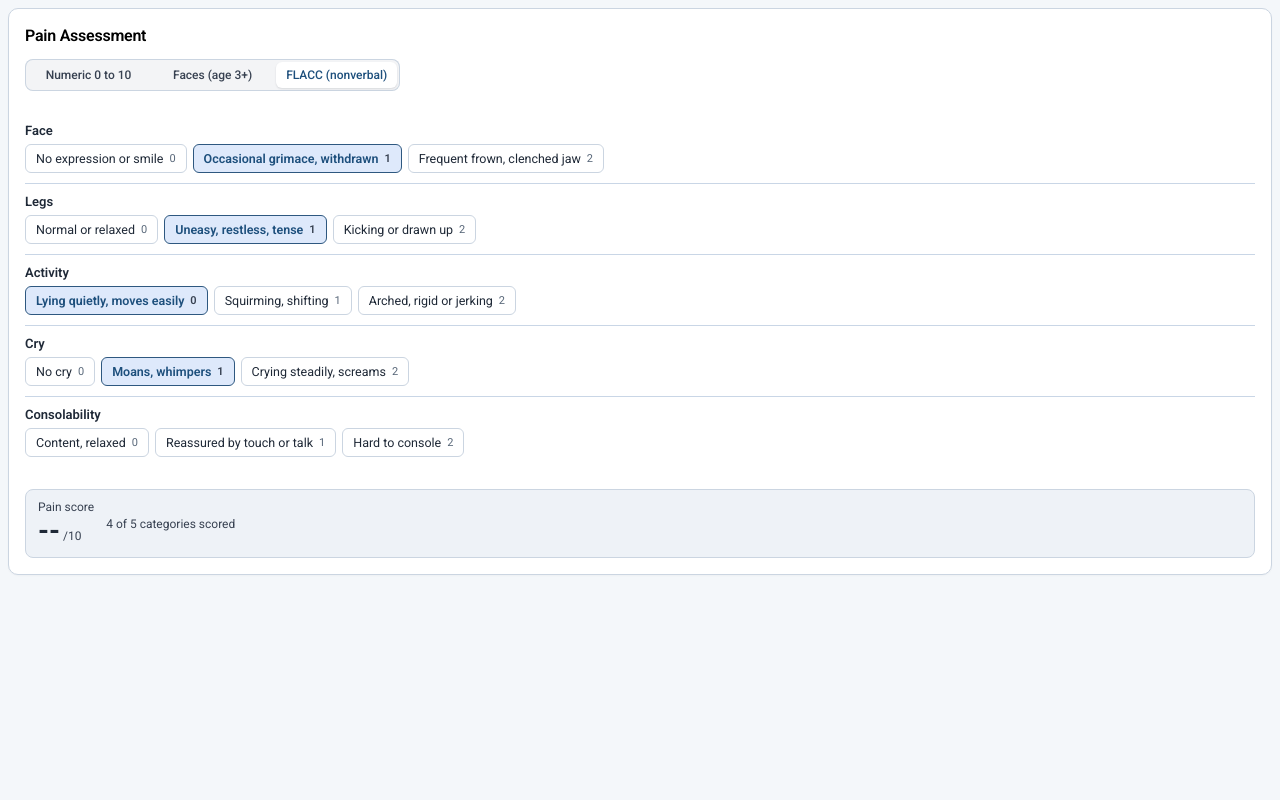
PainScale › totals FLACC once all five categories are scored
expect the message shows "4 of 5 categories scored": met, box [106,516,235,530]
Step 1. Click the radio button labelled "Hard to console 2" → x=403, y=442, box [342,428,464,457]
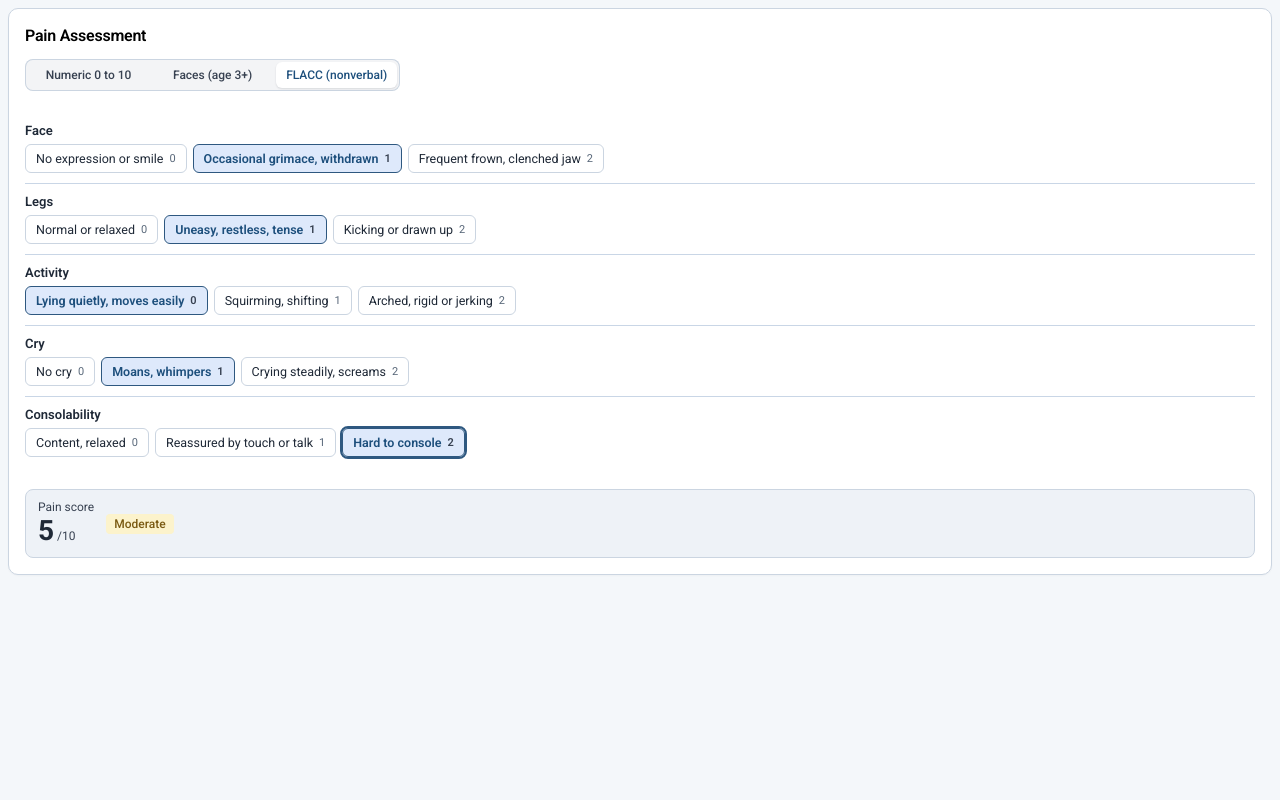
expect the message shows "5 /10": met, box [25,489,1255,558]
